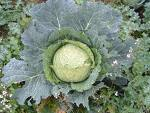cabbage: (49, 42, 95, 85)
